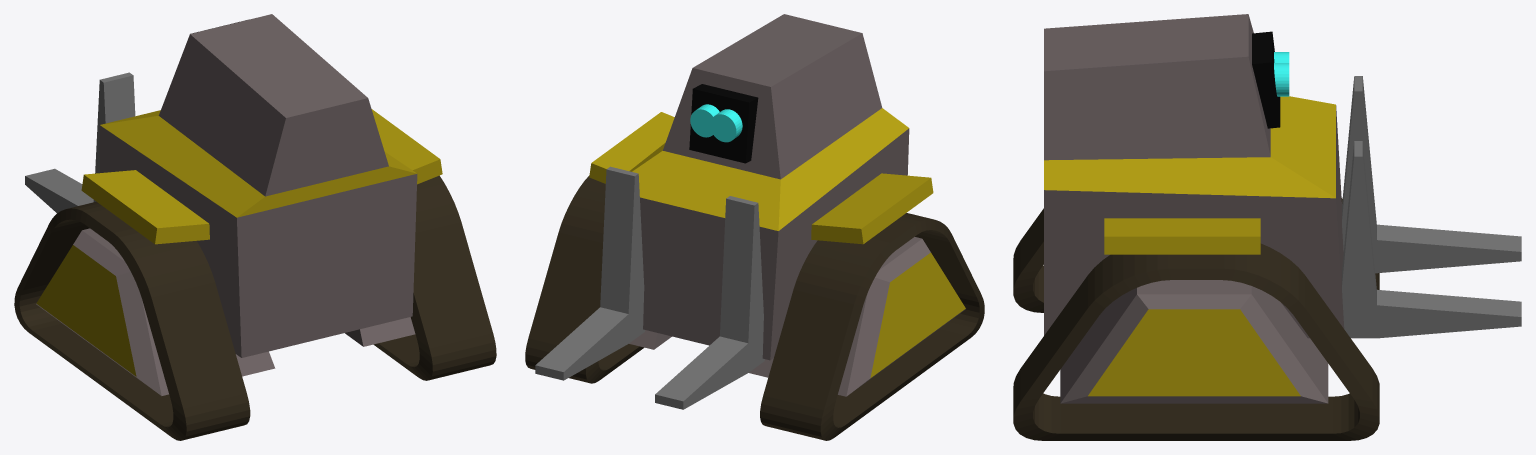
The model's file is mainChar.fbx.
3 renders of one model, left to right at view 1: azimuth 30°, elevation 25°; view 2: azimuth 150°, elevation 25°; view 3: azimuth 270°, elevation 25°, orthographic. The views are drawn at different scales.
Visible parts, largest first — view 1: Cube; view 2: Cube; view 3: Cube.
Boxes of the visible parts, box(x1,y1,x2,y2) form: Cube: box(14, 14, 496, 440); Cube: box(525, 14, 984, 440); Cube: box(1013, 14, 1521, 440).
Bounding box in the file's own units: 194 × 167 × 236.
